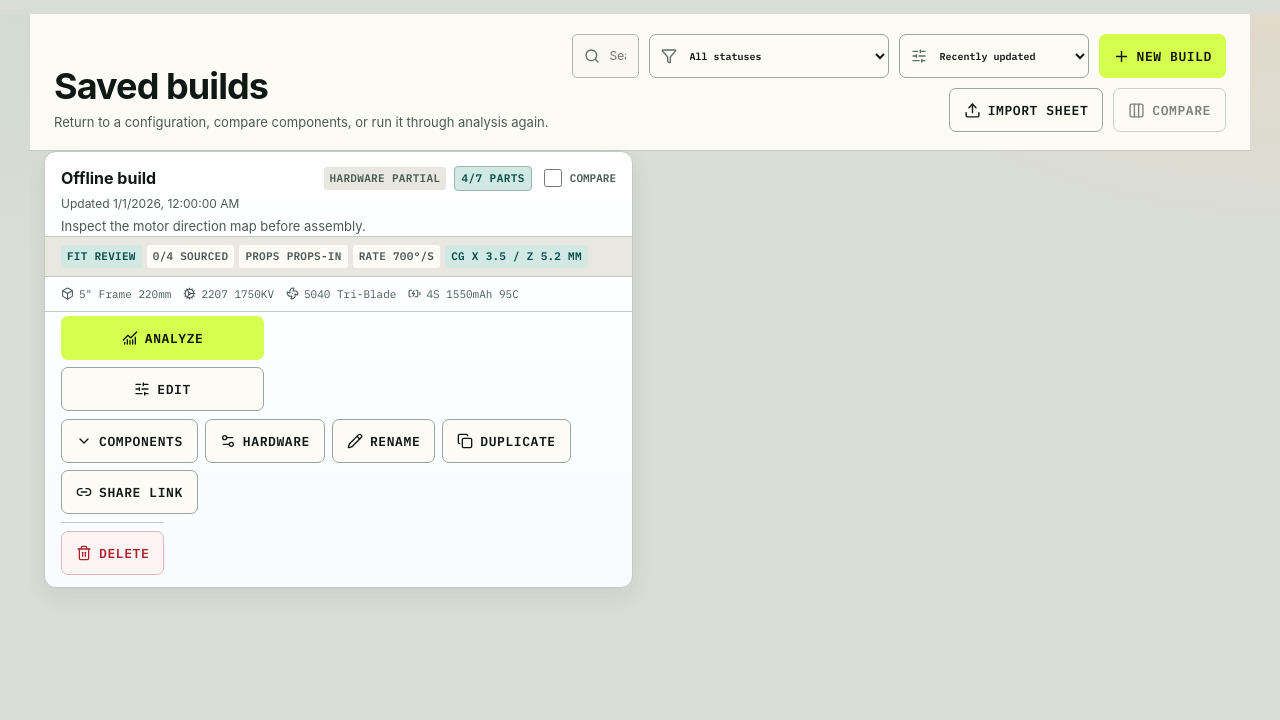
Test case: offline builds can be renamed and duplicated with their saved plan and evidence
The width and height of the screenshot is (1280, 720).
Expected: the heading "Offline build" is shown, [61, 168, 156, 188]
Expected: the text "Hardware partial" is shown, [324, 167, 446, 190]
Click the button "Rename" at (384, 441), box [332, 419, 435, 463]
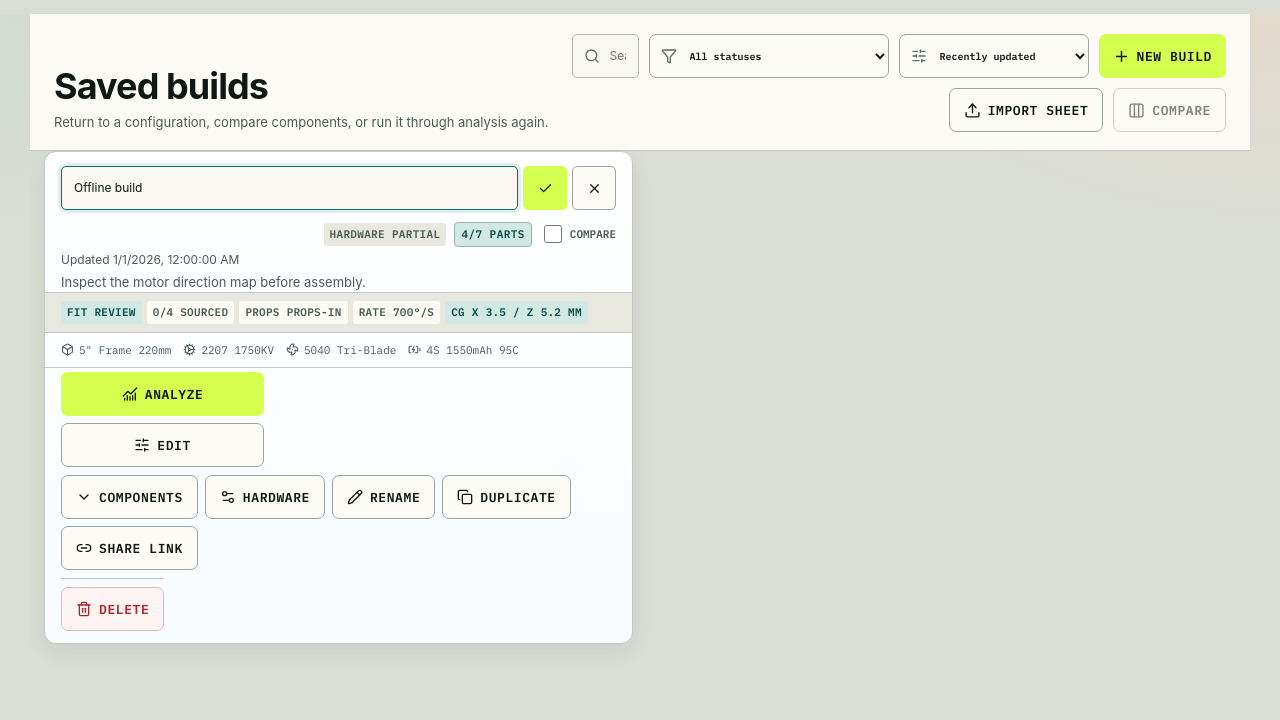
Replace the text in the field named "Rename Offline build" with "Renamed build" at (290, 188), box [61, 166, 518, 210]
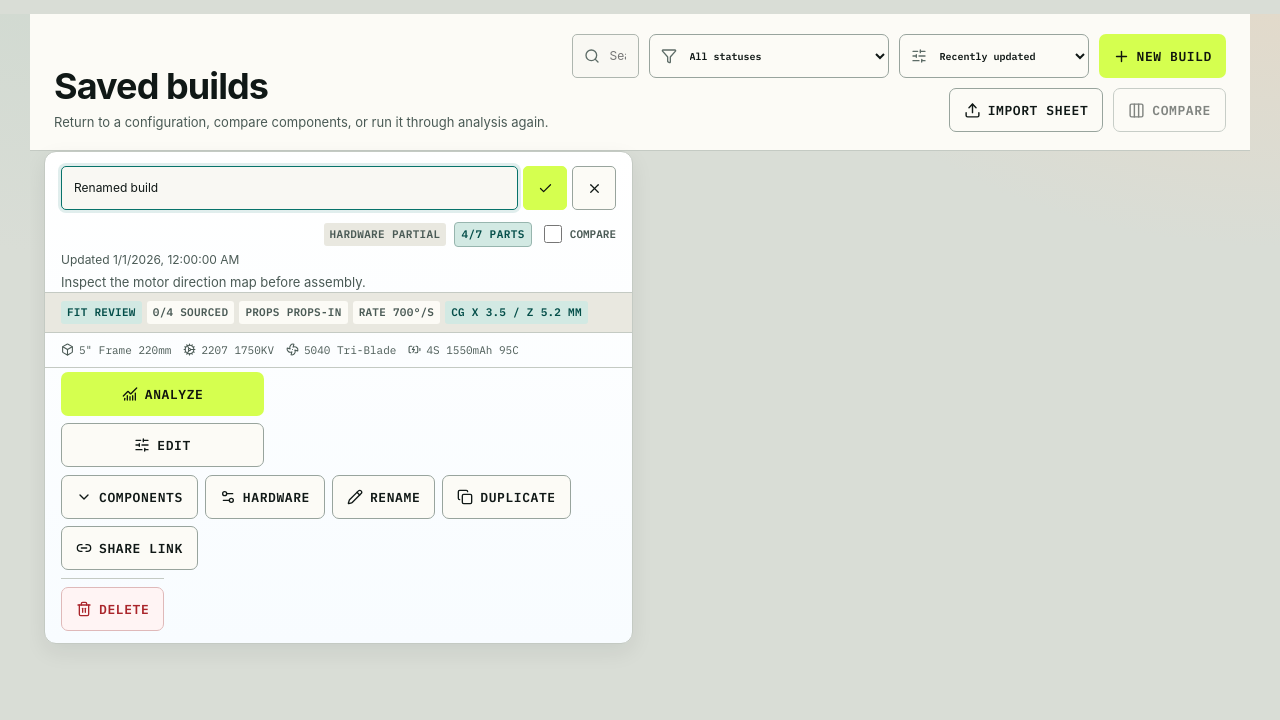
Click the button named "Save build name" at (545, 188), box [523, 166, 567, 210]
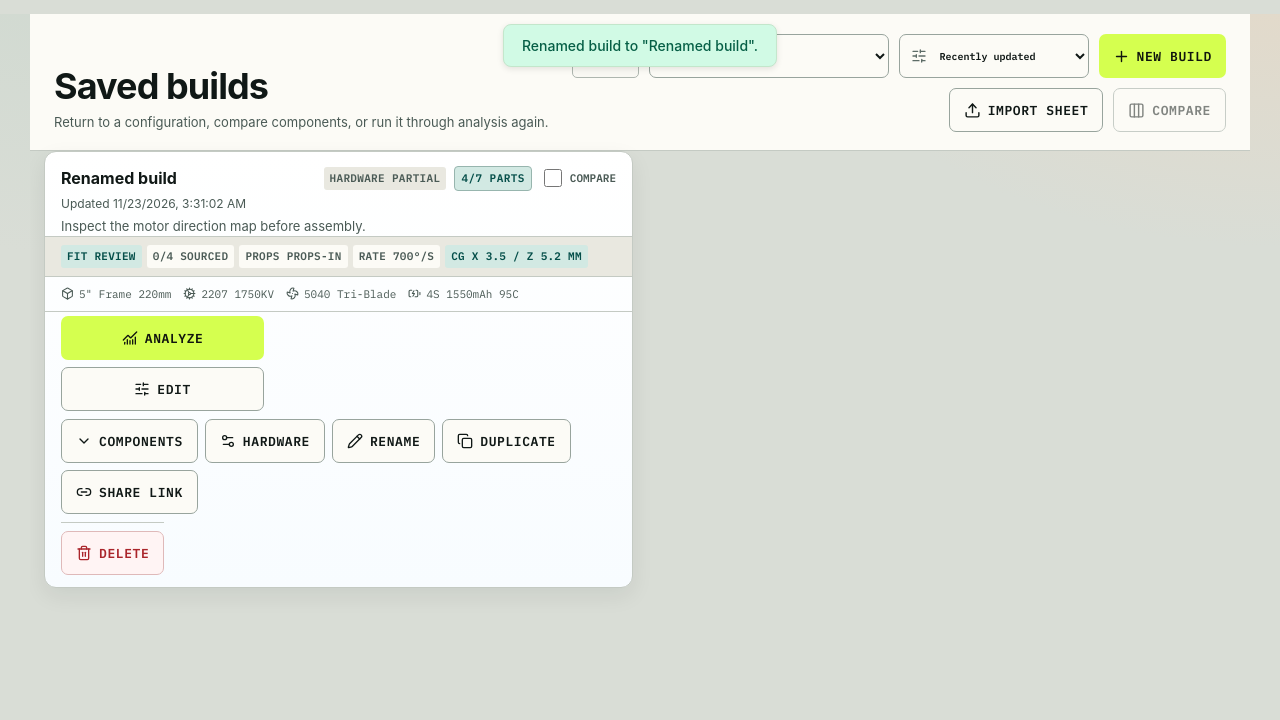
Now the heading "Renamed build" is shown, box [61, 168, 177, 188]
Click the button "Duplicate" at (507, 441), box [442, 419, 571, 463]
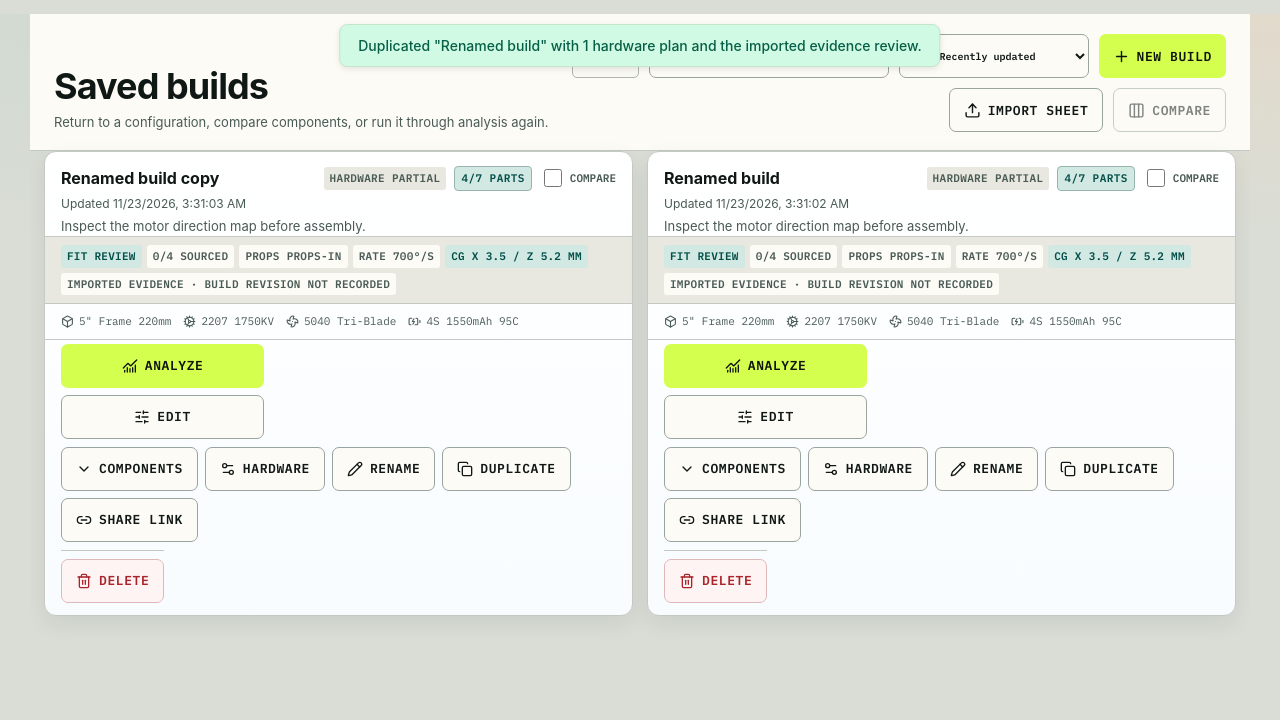
Now the heading "Renamed build copy" is shown, box [61, 168, 219, 188]
